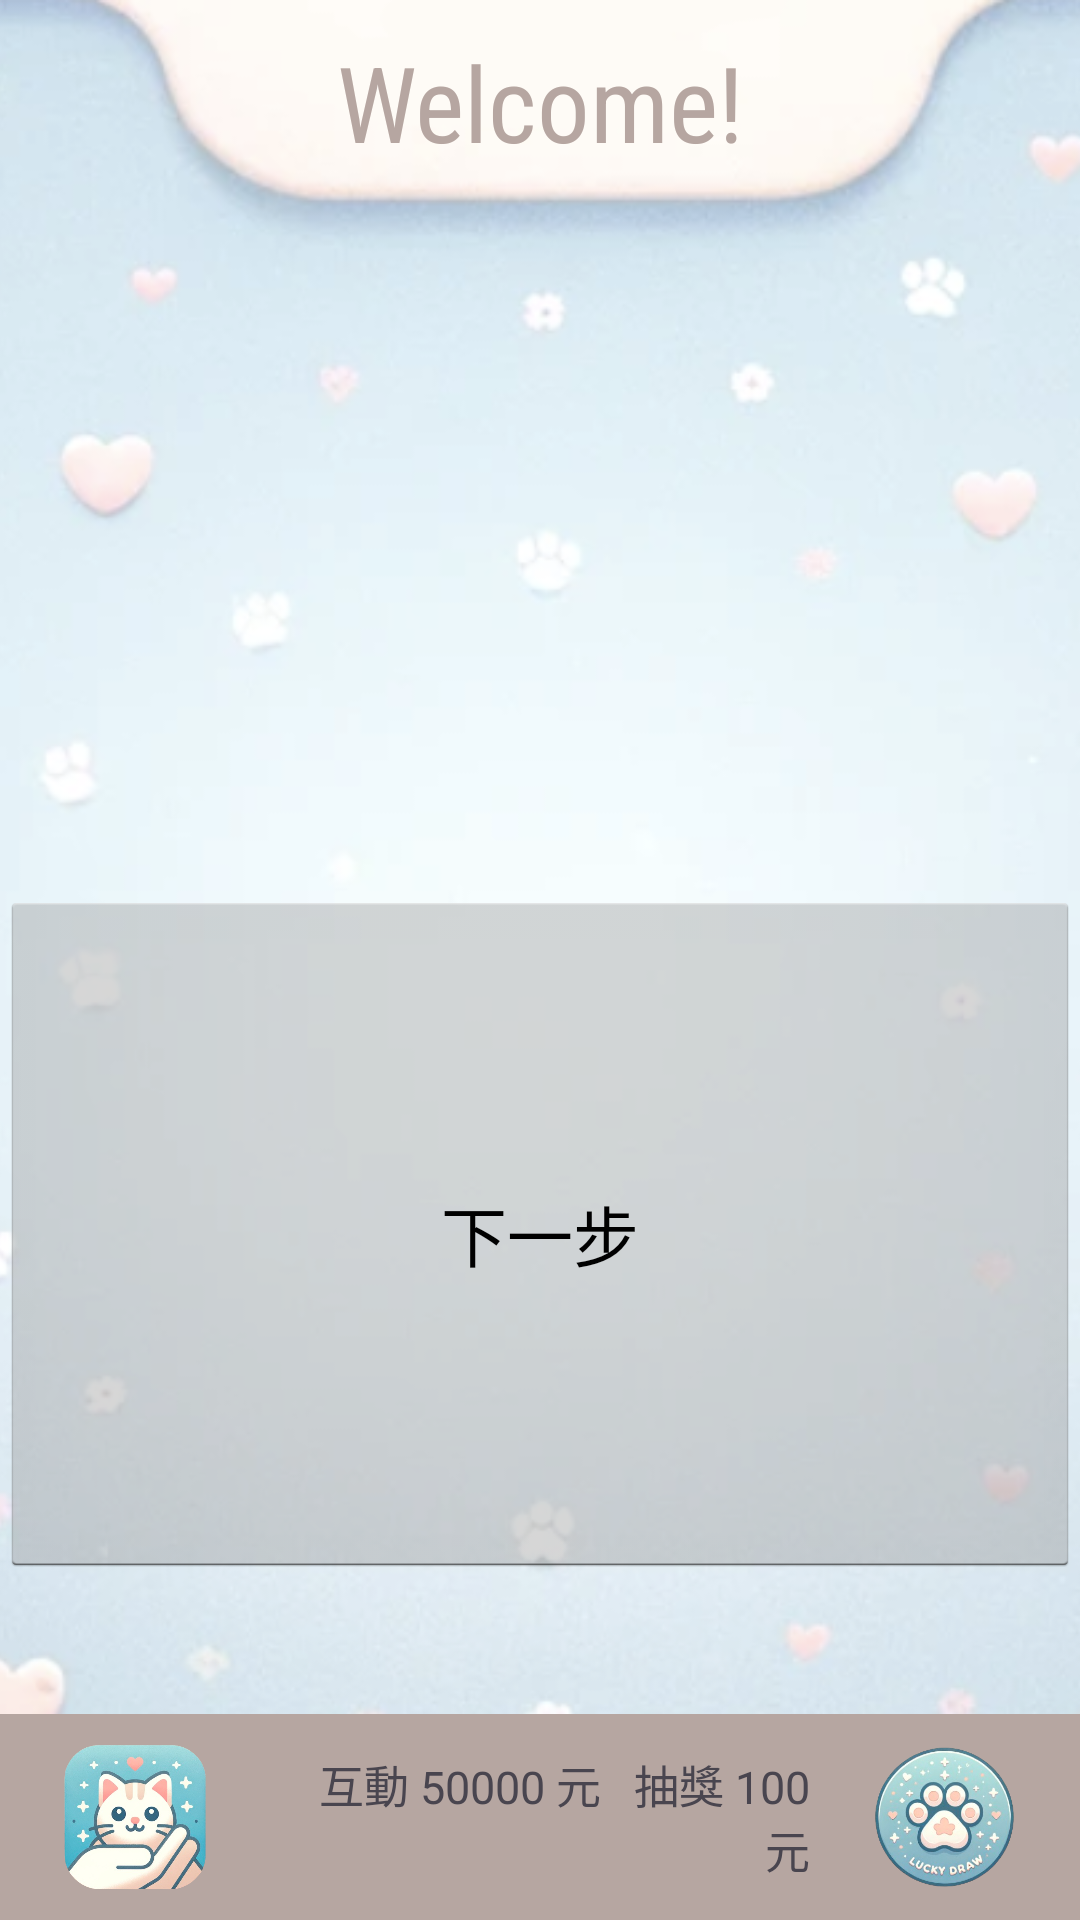

Icons on this 1080px×1920px Android screen, each with the point to tap as [x,y]:
takecare: [135,1817]
